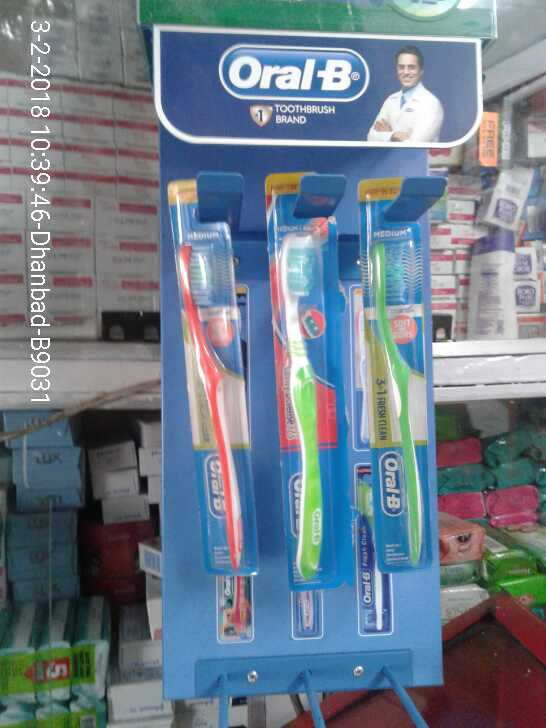oralb: (158, 240, 254, 568), (357, 221, 438, 567), (265, 229, 324, 571)
